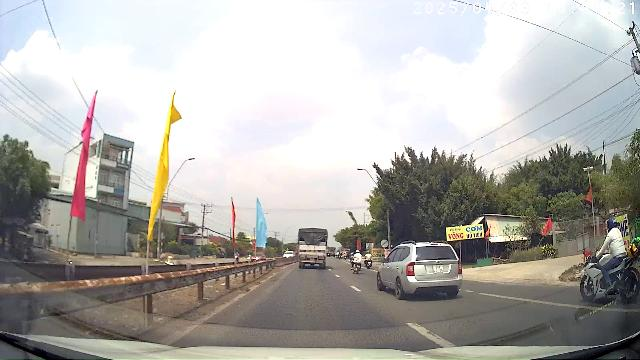133-het-cam-vuot: (381, 239, 388, 248)
